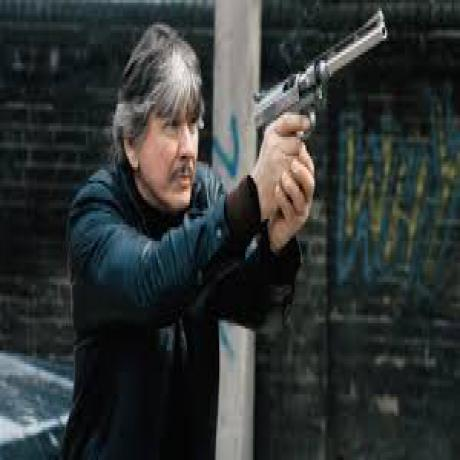Guns: (244, 8, 390, 165)
